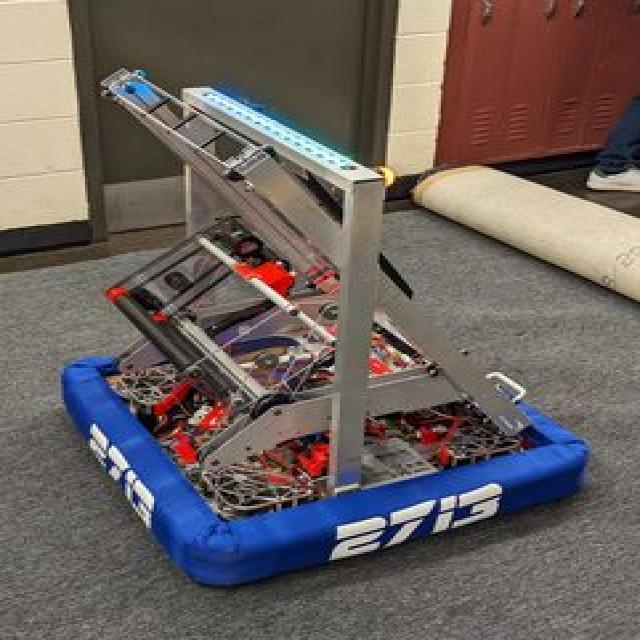robot: (44, 44, 616, 590)
